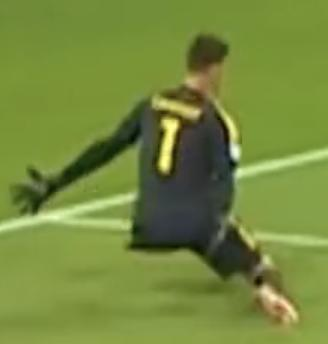goalkeeper: (0, 16, 316, 344)
